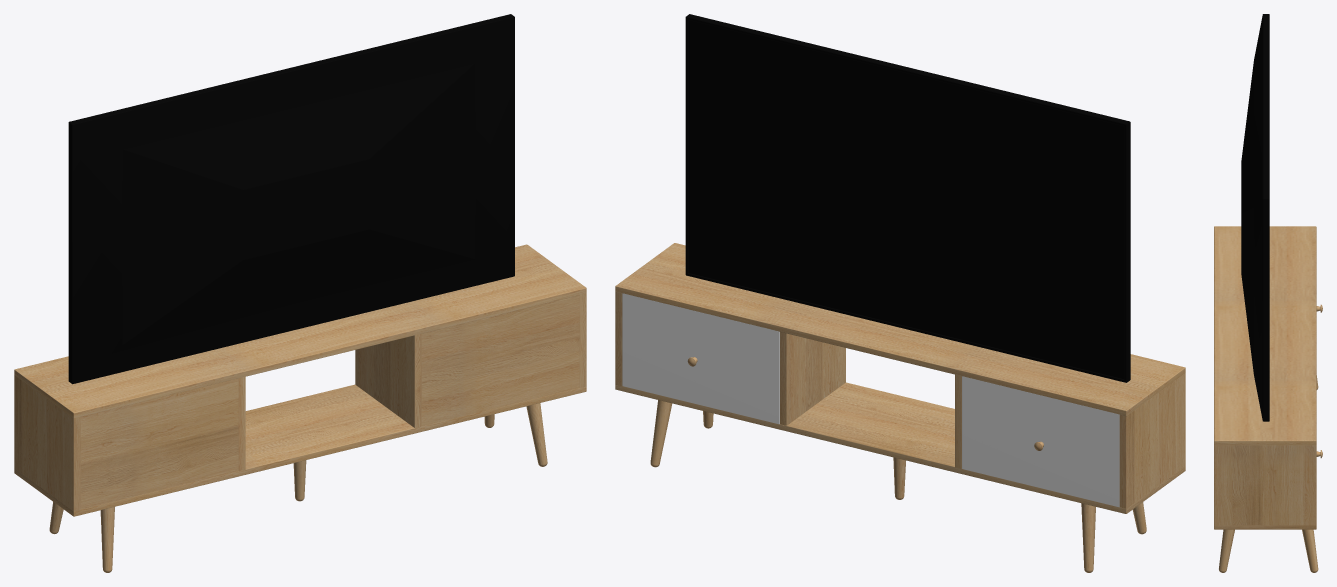
Rendered from SmartTV.fbx.
The picture shows the model from 3 angles, left to right: view 1: azimuth 30°, elevation 25°; view 2: azimuth 150°, elevation 25°; view 3: azimuth 270°, elevation 25°; orthographic projection. The views are drawn at different scales.
Parts seen in each view (by area): view 1: Body.001, polySurface94.001; view 2: Body.001, polySurface94.001; view 3: polySurface94.001, Body.001.
Part boxes in pixels (<box>): Body.001: <box>68,14,514,384</box>; polySurface94.001: <box>14,244,586,572</box>; Body.001: <box>685,14,1130,382</box>; polySurface94.001: <box>615,243,1185,572</box>; polySurface94.001: <box>1214,226,1322,572</box>; Body.001: <box>1241,14,1269,421</box>.
Bounding box in the file's own units: 301 × 243 × 64.49.
2 materials, 1 textured.
